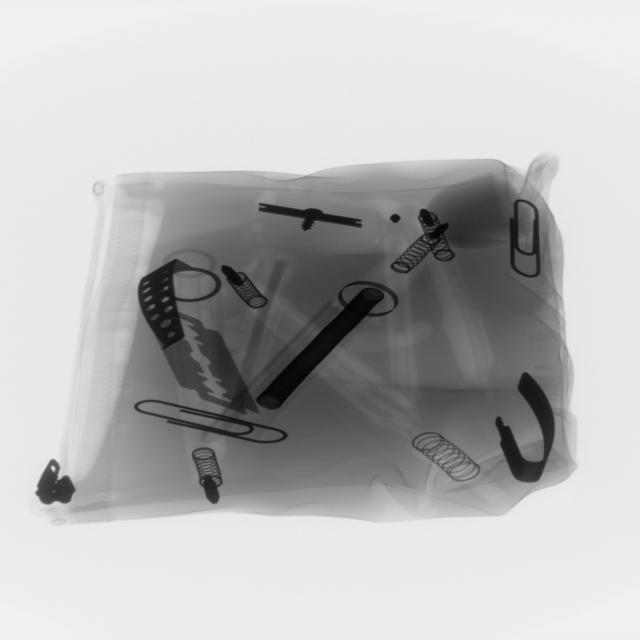knife: (134, 260, 188, 347)
pin: (505, 198, 547, 282)
razor: (156, 318, 262, 414)
